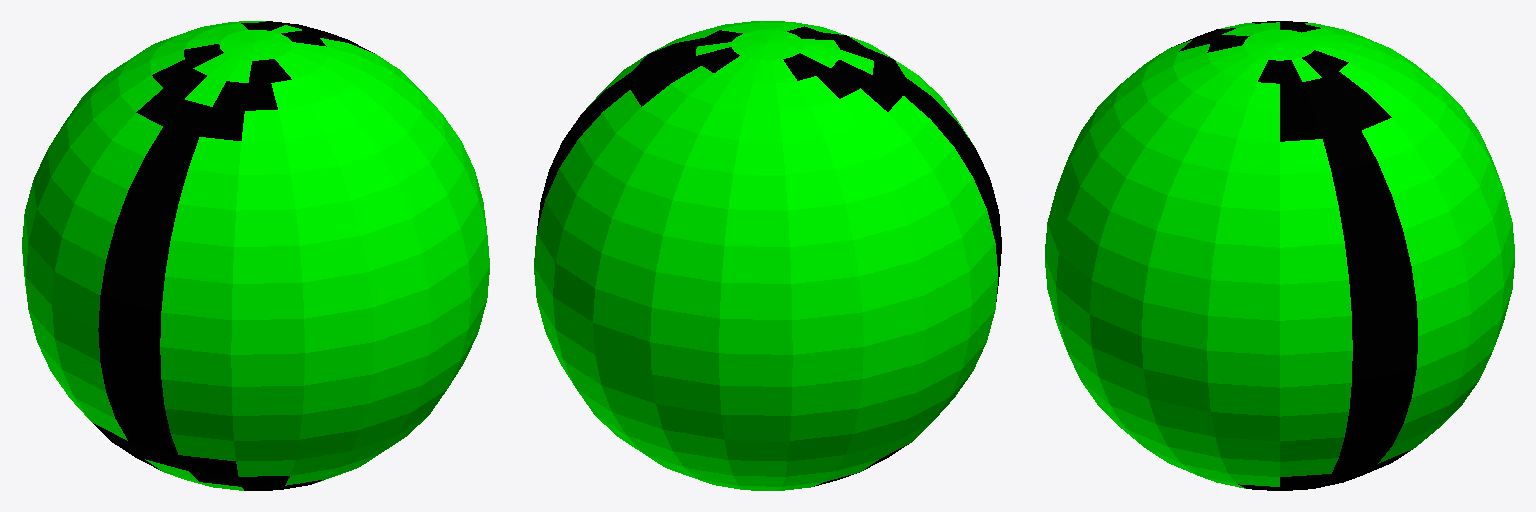
Rendered from Bullet.obj.
3 renders of one model, left to right at view 1: azimuth 30°, elevation 25°; view 2: azimuth 150°, elevation 25°; view 3: azimuth 270°, elevation 25°, orthographic.
Parts seen in each view (by area): view 1: Bullet; view 2: Bullet; view 3: Bullet.
Part boxes in pixels (left/top/right/bottom): Bullet: left=22, top=21, right=489, bottom=490; Bullet: left=534, top=21, right=1001, bottom=490; Bullet: left=1045, top=21, right=1514, bottom=490.
Size of the model in its own units: 2 by 2 by 2.